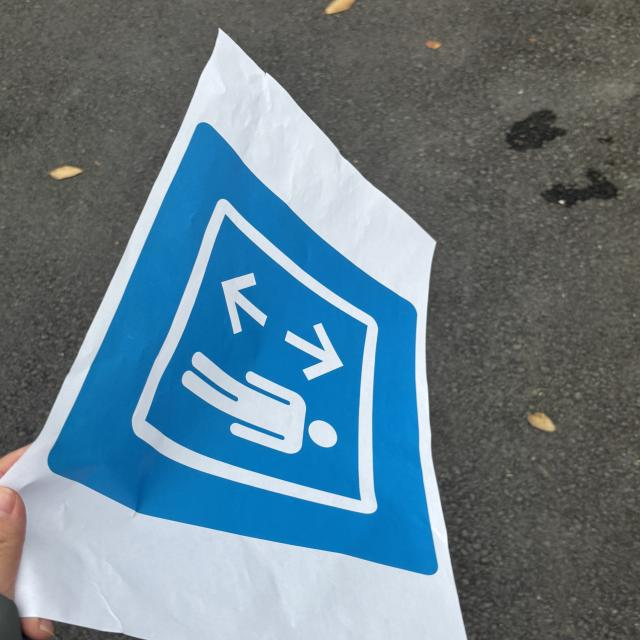elevator: (52, 124, 432, 582)
